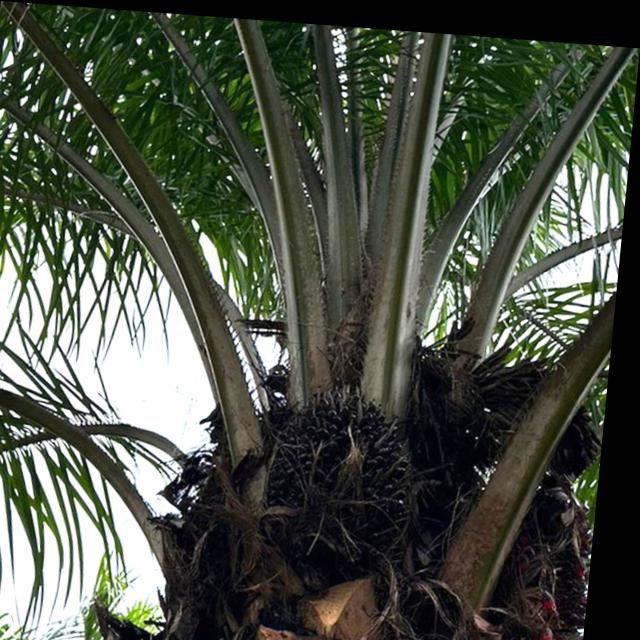almost: (270, 370, 425, 560), (491, 460, 605, 640)
